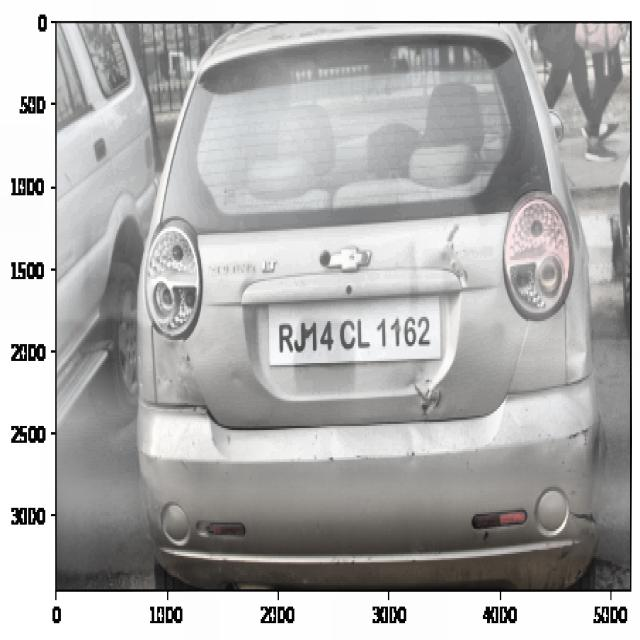license_plate: (273, 312, 438, 370)
